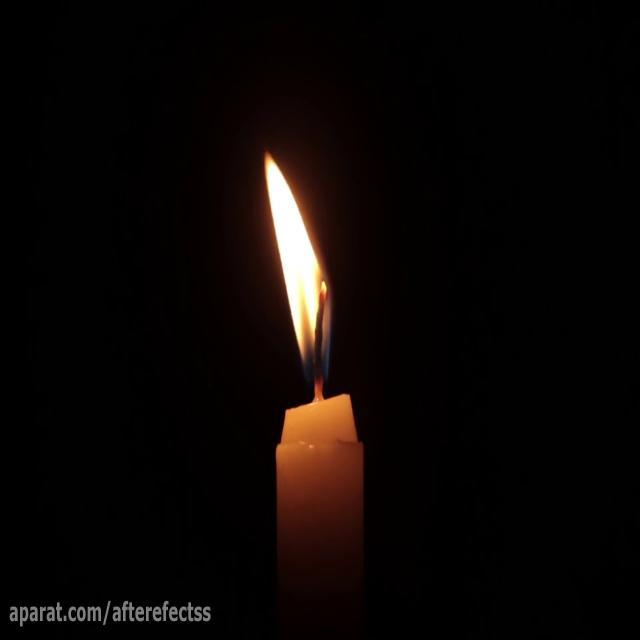Fire: (258, 144, 341, 390)
